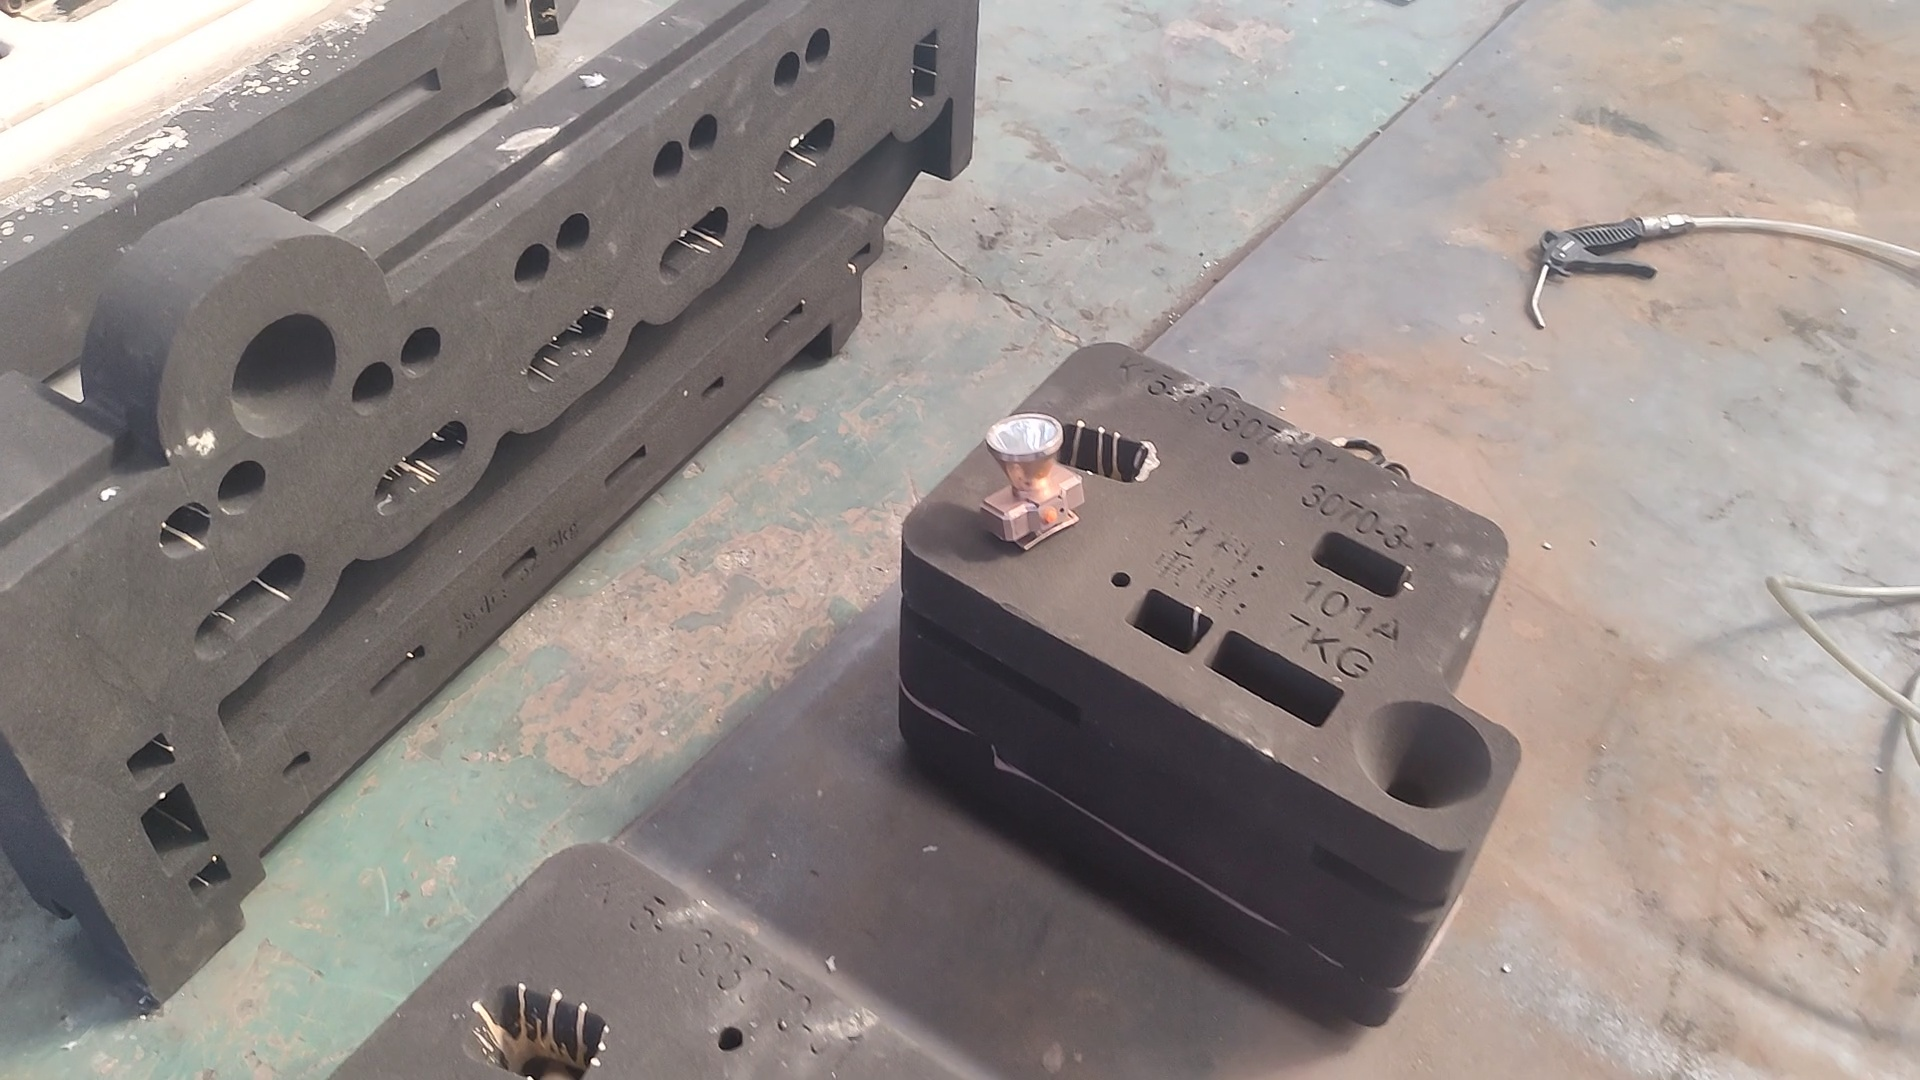pouring hole: (1356, 702, 1495, 810), (229, 314, 339, 440)
